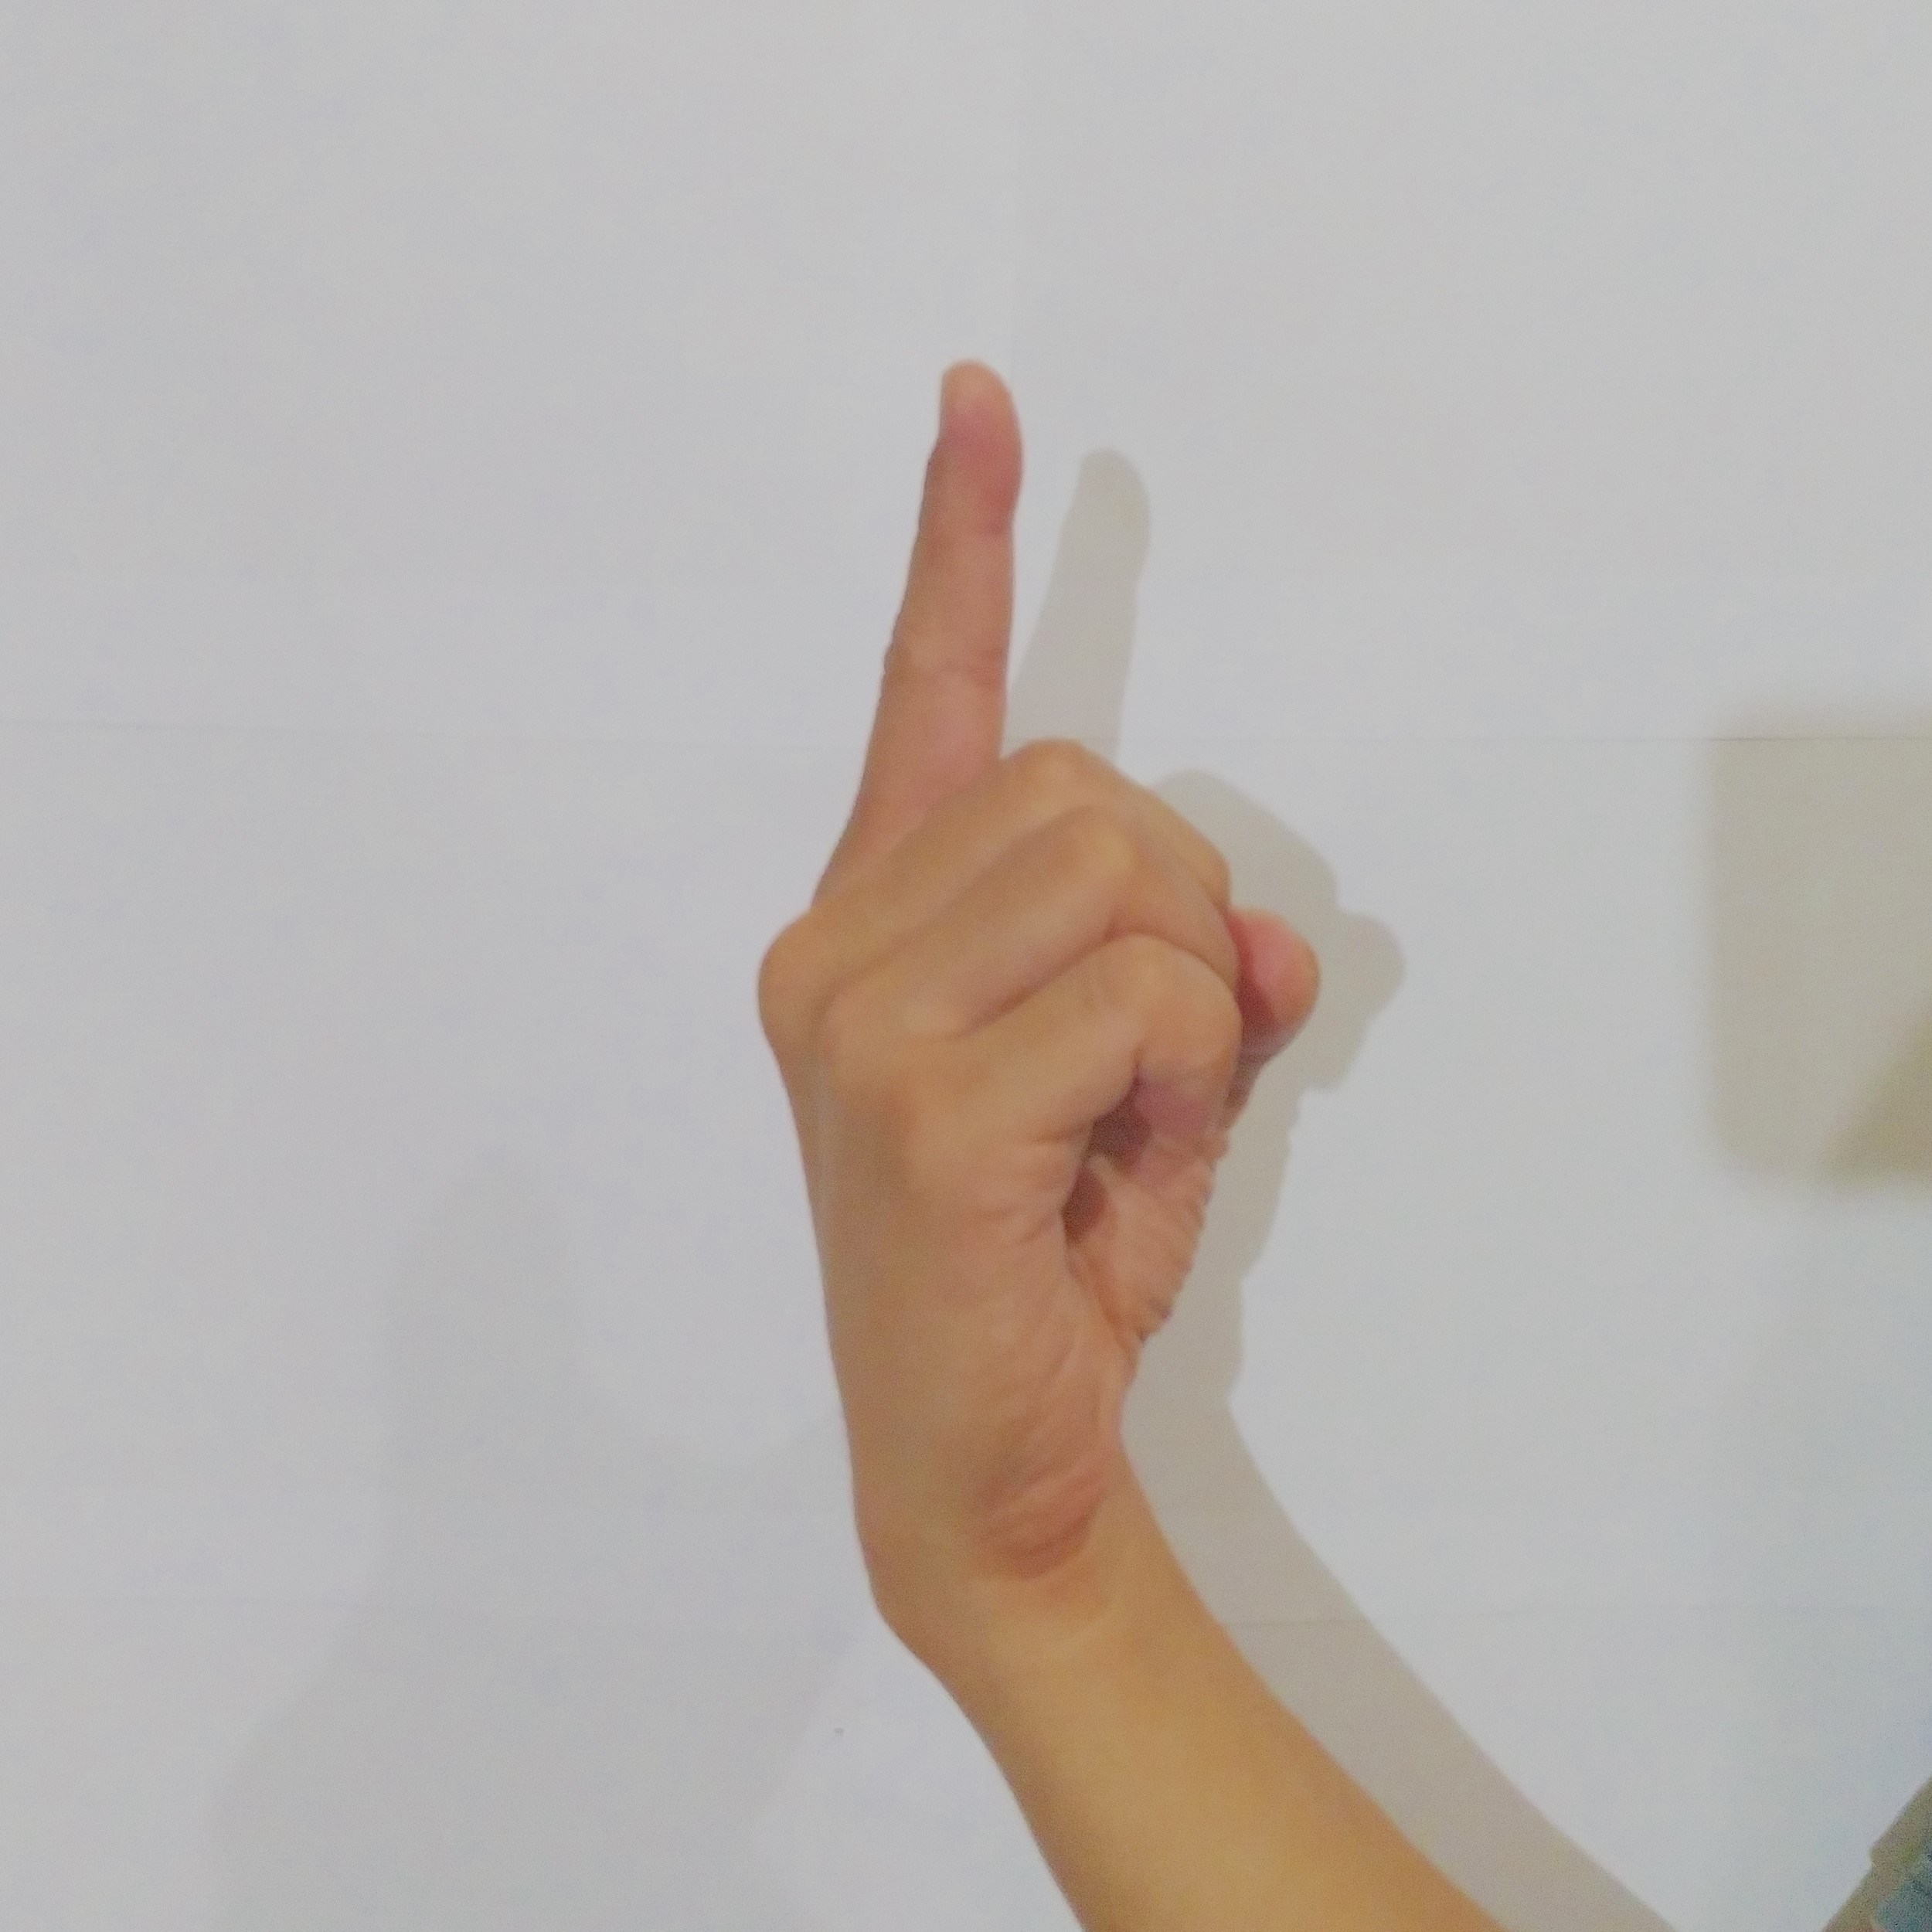D: (729, 340, 1339, 1444)
